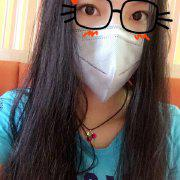OK: (64, 4, 158, 98)
